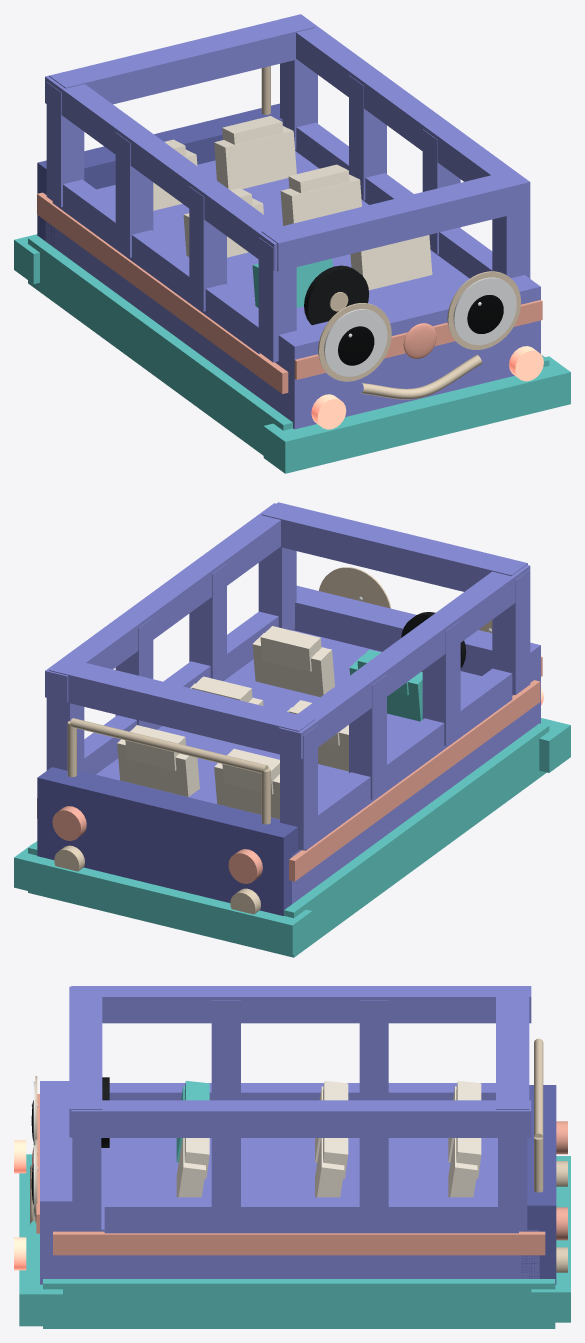
File: A051-12-star-dream-bus--visual-body-material-v1.glb
The picture shows the model from 3 angles, top to bottom: view 1: azimuth 30°, elevation 25°; view 2: azimuth 150°, elevation 25°; view 3: azimuth 270°, elevation 25°; orthographic projection.
Parts seen in each view (by area): view 1: LP37_BUSKID_SUNNY_Body_Part_01; view 2: LP37_BUSKID_SUNNY_Body_Part_01; view 3: LP37_BUSKID_SUNNY_Body_Part_01.
Boxes of the visible parts, bbox=[...] form: LP37_BUSKID_SUNNY_Body_Part_01: bbox=[14, 14, 570, 473]; LP37_BUSKID_SUNNY_Body_Part_01: bbox=[14, 502, 570, 957]; LP37_BUSKID_SUNNY_Body_Part_01: bbox=[14, 986, 570, 1328].
Size of the model in its own units: 0.5944 by 0.428 by 1.
